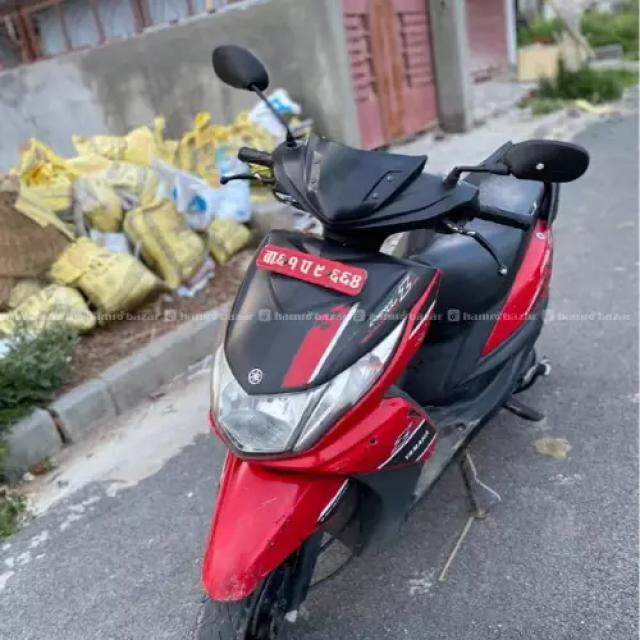License-plate: (262, 240, 366, 304)
